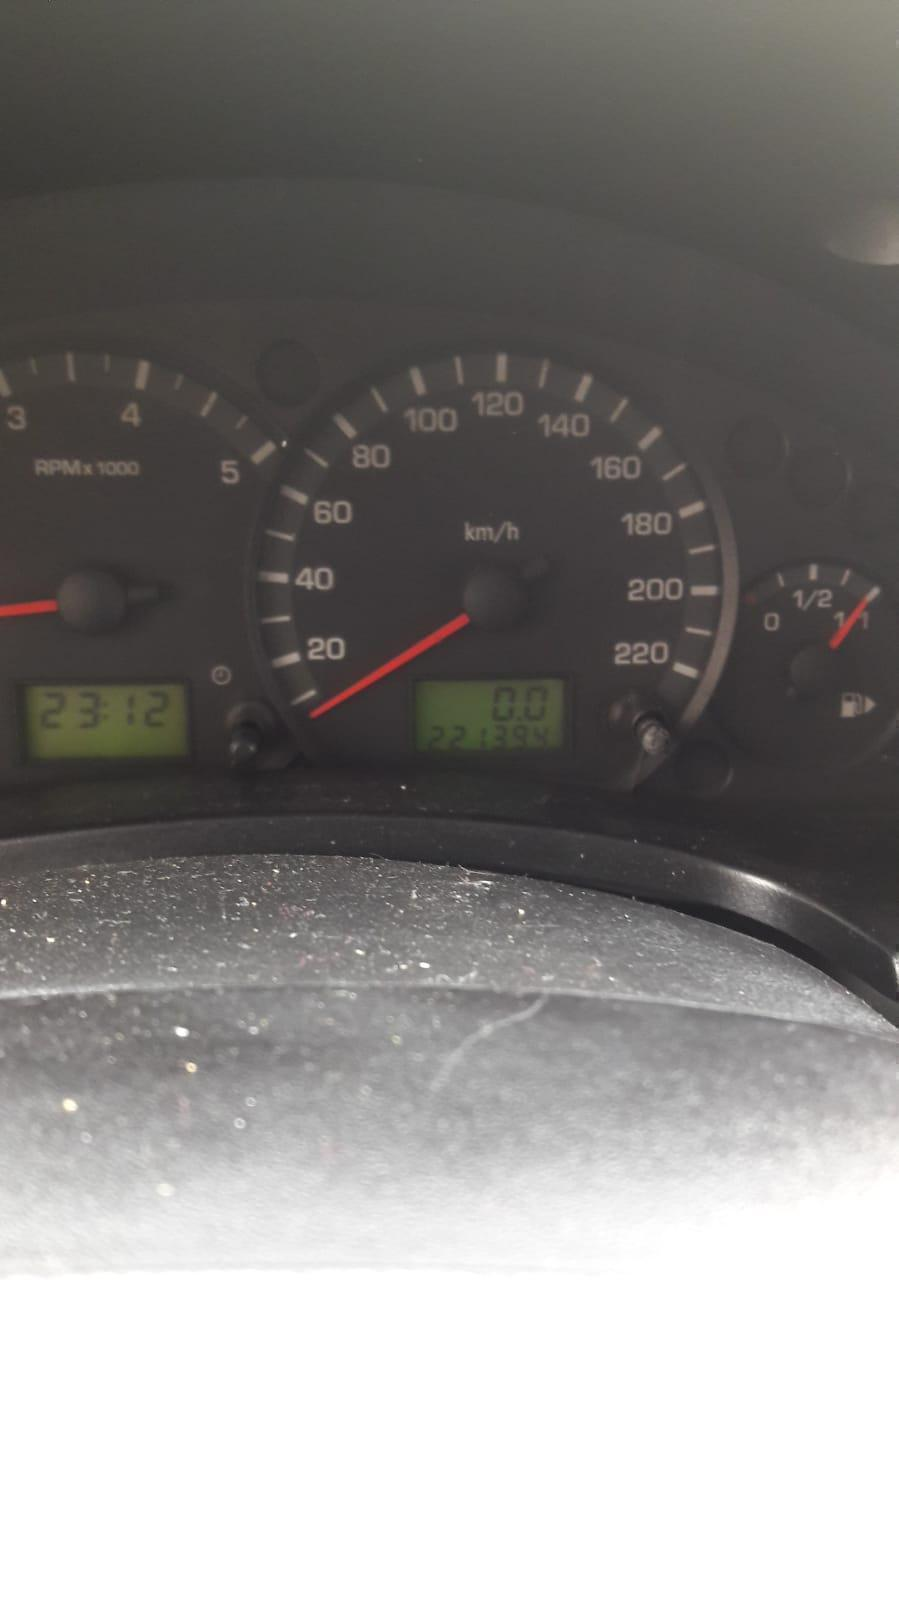,: (515, 715, 522, 722)
0: (522, 685, 548, 720), (491, 686, 514, 722)
1: (477, 727, 488, 752)
2: (427, 725, 443, 751), (450, 725, 465, 750)
3: (493, 724, 507, 750)
4: (533, 726, 548, 749)
9: (512, 724, 527, 750)
odometer: (411, 678, 570, 754)
